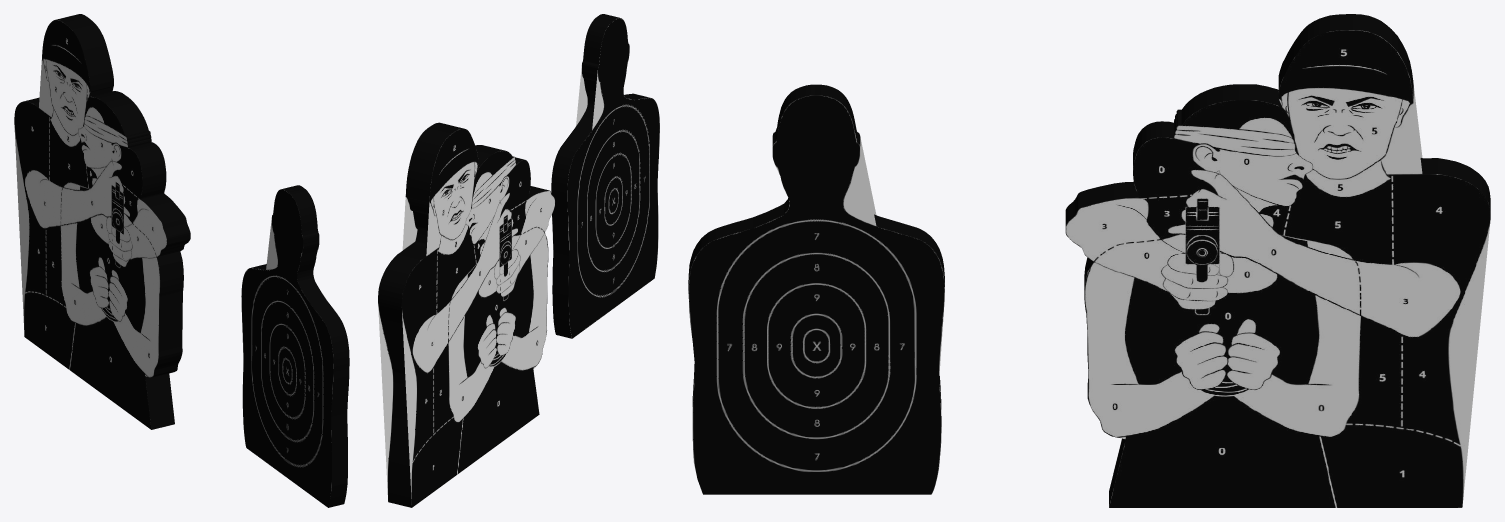
Rendered from Shooting range targets.fbx.
3 renders of one model, left to right at view 1: azimuth 30°, elevation 25°; view 2: azimuth 150°, elevation 25°; view 3: azimuth 270°, elevation 25°, orthographic. The views are drawn at different scales.
Visible parts, largest first — view 1: Cube.003, Cube; view 2: Cube.003, Cube; view 3: Cube.003, Cube.
Part boxes in pixels (x1,y1,x2,y2): Cube.003: (14, 14, 190, 429); Cube: (241, 185, 349, 507); Cube.003: (378, 122, 555, 507); Cube: (551, 14, 659, 338); Cube.003: (1065, 14, 1490, 507); Cube: (688, 84, 944, 494).
Size of the model in its own units: 362 by 2513 by 3823.
